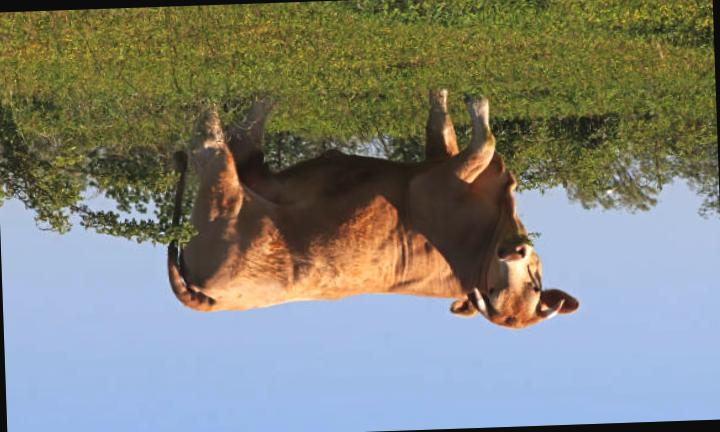Charolais: (170, 91, 578, 329)
